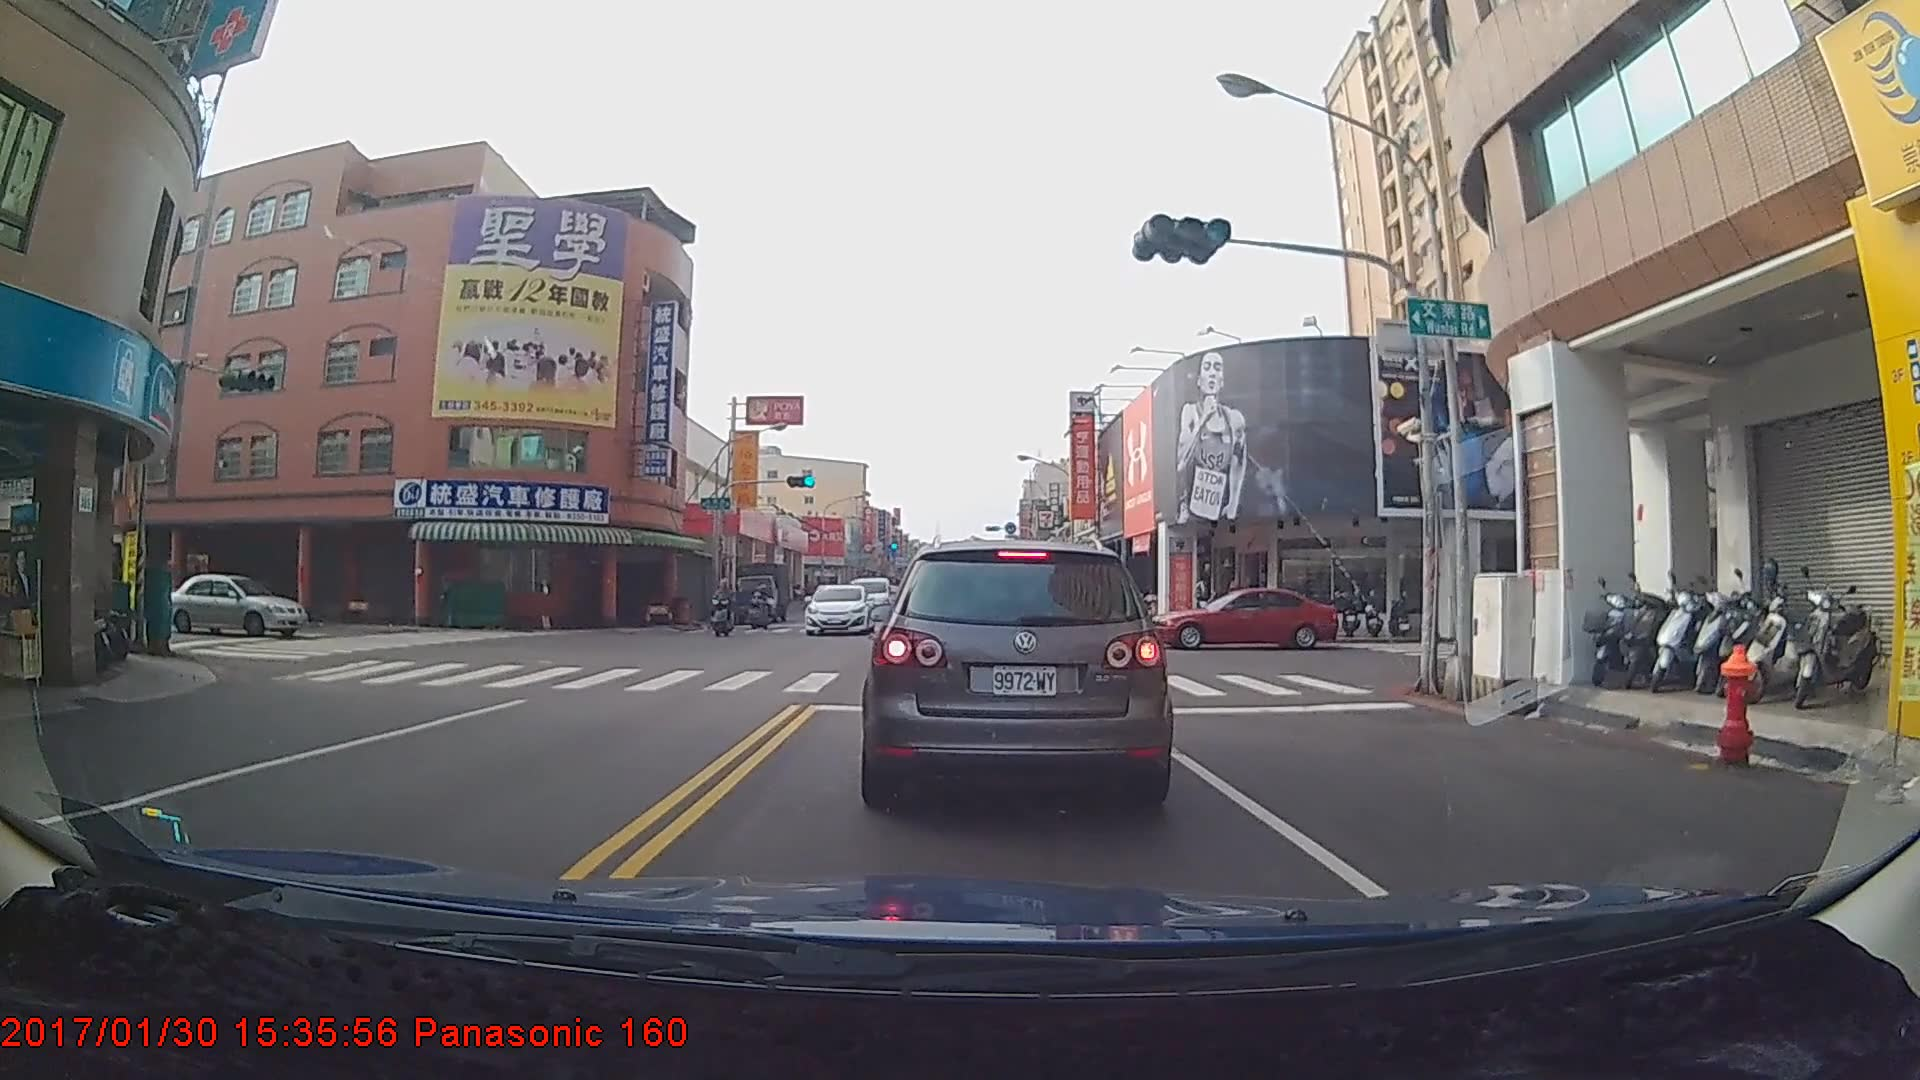rider: (744, 577, 779, 629), (708, 576, 735, 639)
vehicle: (871, 531, 1168, 806), (1147, 586, 1338, 652), (157, 568, 308, 635), (801, 583, 873, 636), (733, 560, 790, 623)
